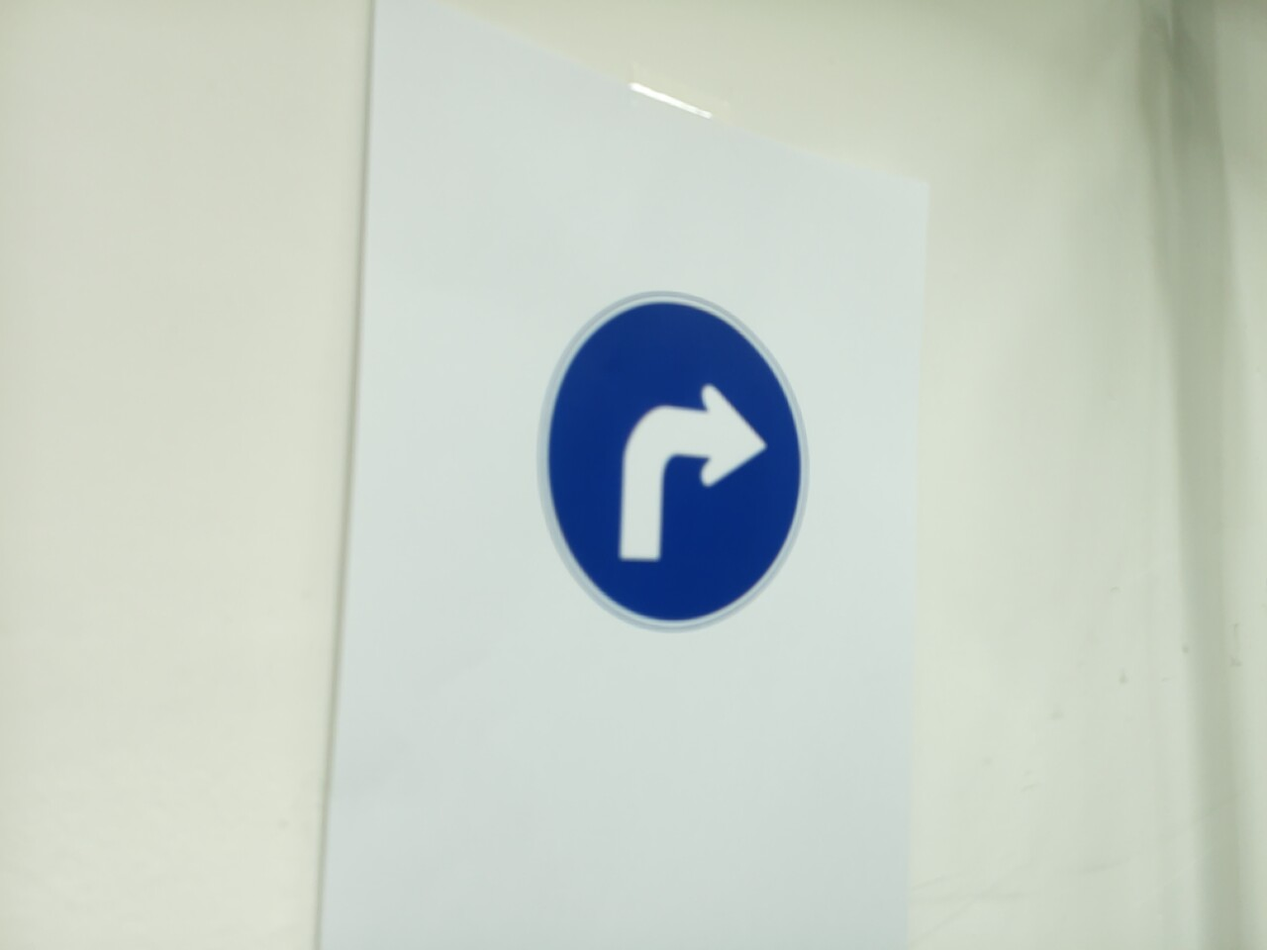right_turn: (539, 292, 810, 631)
